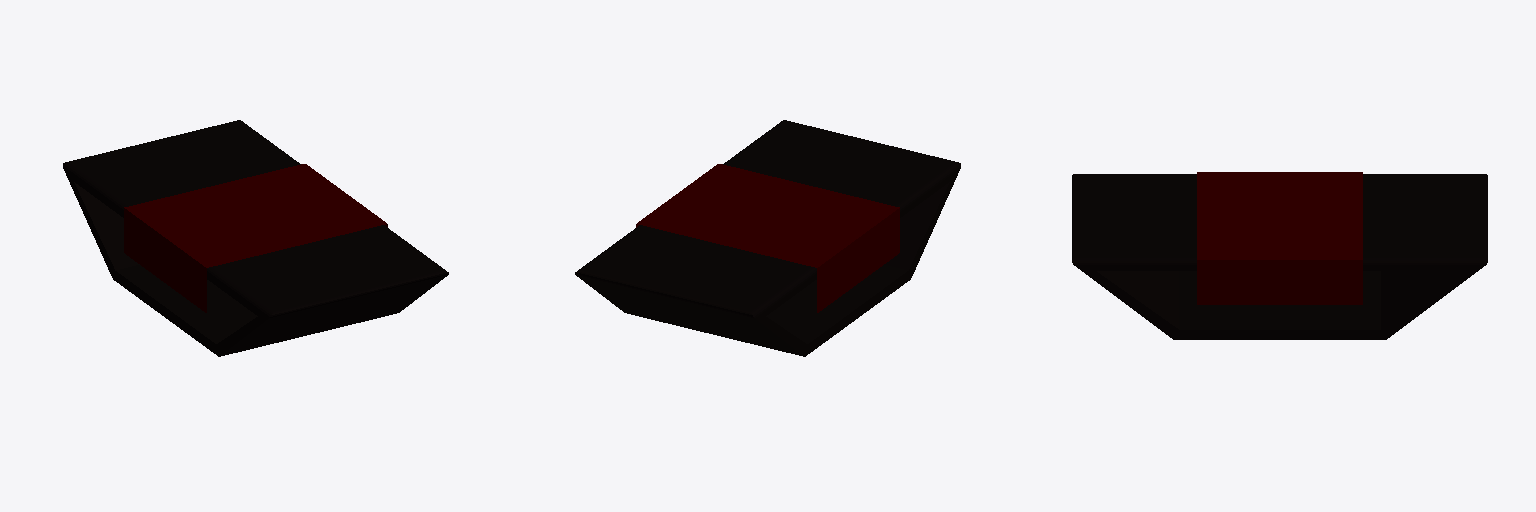
File: Coffee_Table.obj
The picture shows the model from 3 angles: view 1: azimuth 30°, elevation 25°; view 2: azimuth 150°, elevation 25°; view 3: azimuth 270°, elevation 25°; orthographic projection.
Parts seen in each view (by area): view 1: CoffeeTable_Plane.014; view 2: CoffeeTable_Plane.014; view 3: CoffeeTable_Plane.014.
Boxes of the visible parts, box(x1,y1,x2,y2) form: CoffeeTable_Plane.014: box(63, 120, 448, 356); CoffeeTable_Plane.014: box(575, 120, 960, 356); CoffeeTable_Plane.014: box(1072, 172, 1487, 339).
Size of the model in its own units: 71.61 by 30.37 by 142.